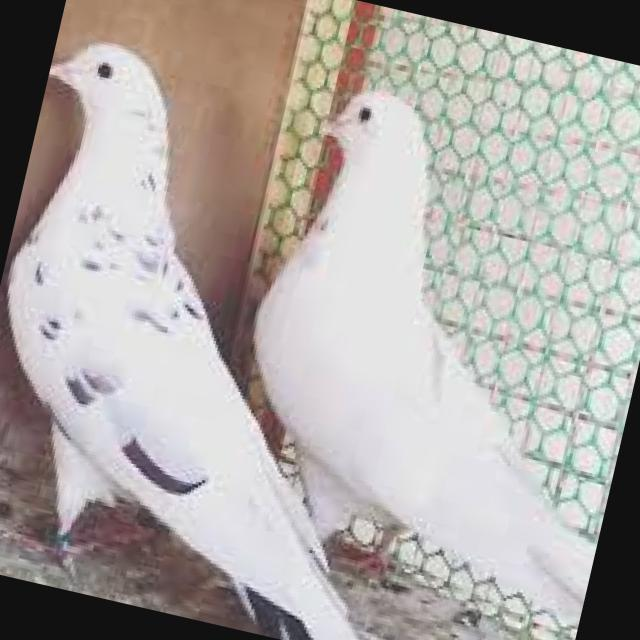bird: (0, 25, 497, 640), (195, 67, 640, 640)
